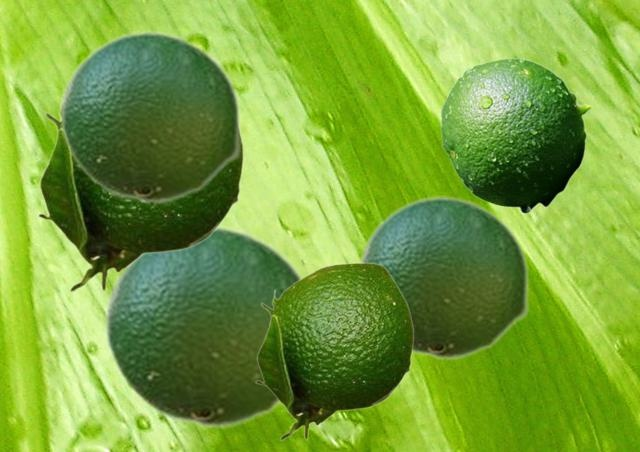dalandan: (103, 224, 305, 429), (36, 94, 243, 292), (59, 30, 241, 204), (357, 195, 529, 360), (254, 262, 413, 440), (440, 57, 591, 213)
